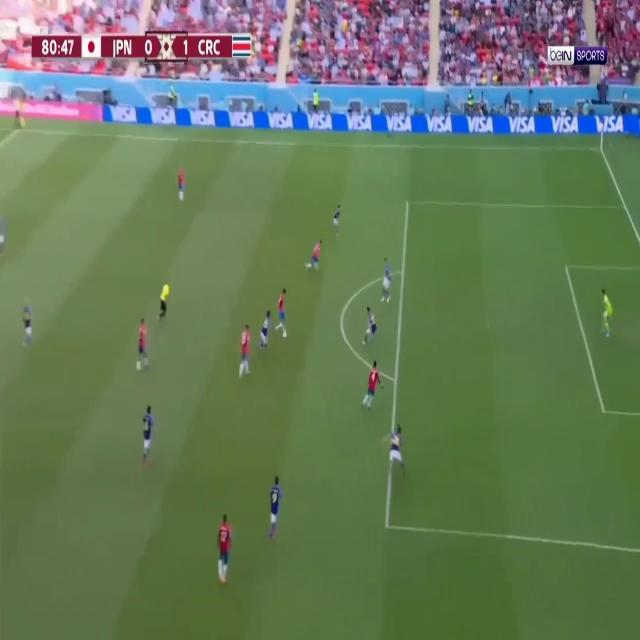Ball: (283, 332, 287, 338)
GoalKeeper: (598, 285, 614, 338)
Referee: (7, 89, 26, 129), (156, 278, 171, 322)
TEAM 1: (215, 514, 235, 588), (363, 360, 381, 412), (238, 323, 254, 380), (136, 318, 152, 373), (275, 286, 289, 337), (176, 164, 189, 205), (308, 237, 321, 271)
TEAM 2: (266, 472, 285, 542), (140, 403, 159, 467), (389, 422, 406, 474), (21, 303, 36, 347), (381, 256, 394, 302), (364, 306, 378, 347), (260, 308, 271, 352), (0, 210, 6, 260), (333, 203, 342, 234)
